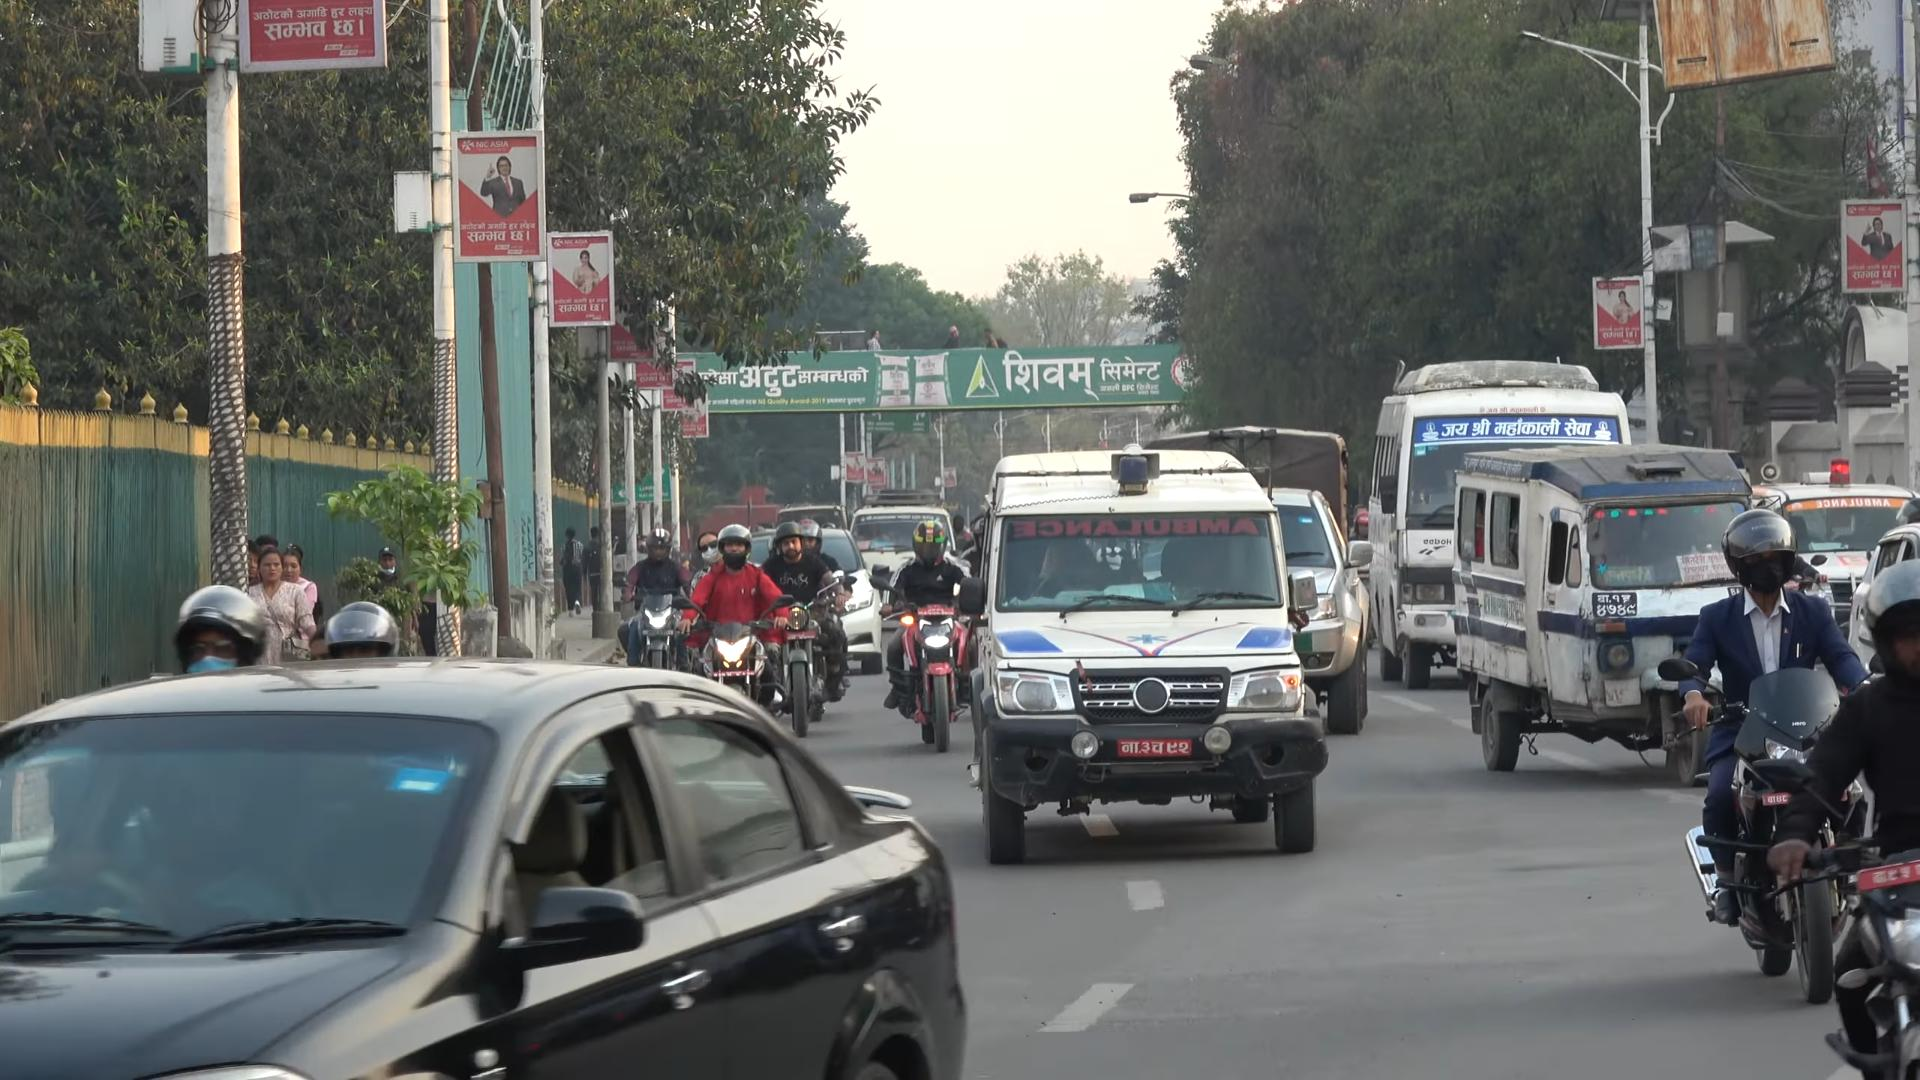ambulance: (952, 423, 1341, 882)
bike: (873, 570, 975, 757)
car: (0, 655, 977, 1080)
tempo: (1441, 442, 1767, 778)
transport_vehicle: (1246, 417, 1394, 733)
